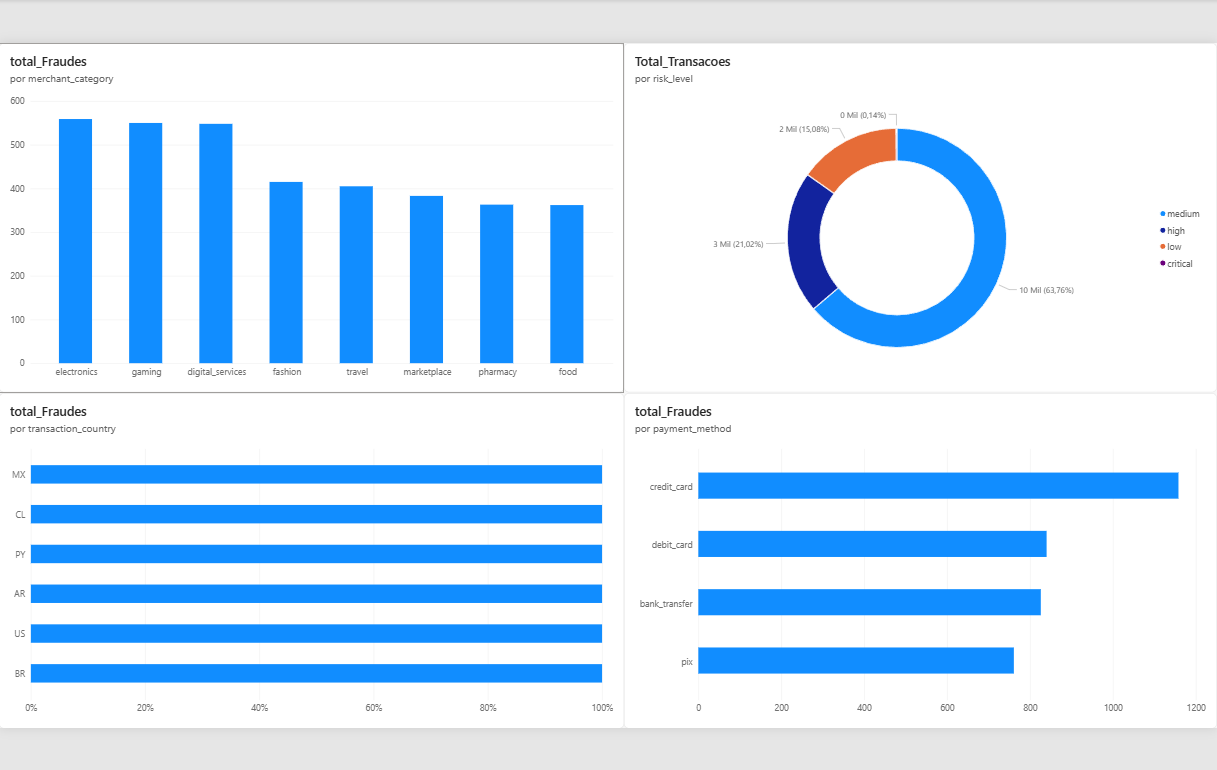

This screenshot's page, from the dashboard's own definition file:
{"tool":"powerbi","page":{"name":"Visão Executiva","canvas":[1920,1080],"ordinal":1},"visuals":[{"type":"clusteredColumnChart","fields":{"Category":["final_transactions_for_bi.merchant_category"],"Y":["final_transactions_for_bi.total_Fraudes"]},"box":[0,0,985.3,551],"z":0},{"type":"hundredPercentStackedBarChart","fields":{"Category":["final_transactions_for_bi.transaction_country"],"Y":["final_transactions_for_bi.total_Fraudes"]},"box":[0,551,985.3,529.1],"z":1},{"type":"donutChart","fields":{"Category":["final_transactions_for_bi.risk_level"],"Y":["final_transactions_for_bi.Total_Transacoes"]},"box":[985.3,0,934.2,551],"z":2},{"type":"barChart","fields":{"Category":["final_transactions_for_bi.payment_method"],"Y":["final_transactions_for_bi.total_Fraudes"]},"box":[985.3,551,934.2,529.1],"z":3}]}

Visuals, with their boxes on the page's 1920x1080 design canvas (x1, y1, x2, y2). These are canvas units, not pixel positions in the 1217x770 screenshot, which may show the page scaled, cropped or inside an application window:
clusteredColumnChart - final_transactions_for_bi.merchant_category x final_transactions_for_bi.total_Fraudes: [0,0,985,551]
hundredPercentStackedBarChart - final_transactions_for_bi.transaction_country x final_transactions_for_bi.total_Fraudes: [0,551,985,1080]
donutChart - final_transactions_for_bi.risk_level x final_transactions_for_bi.Total_Transacoes: [985,0,1920,551]
barChart - final_transactions_for_bi.payment_method x final_transactions_for_bi.total_Fraudes: [985,551,1920,1080]
